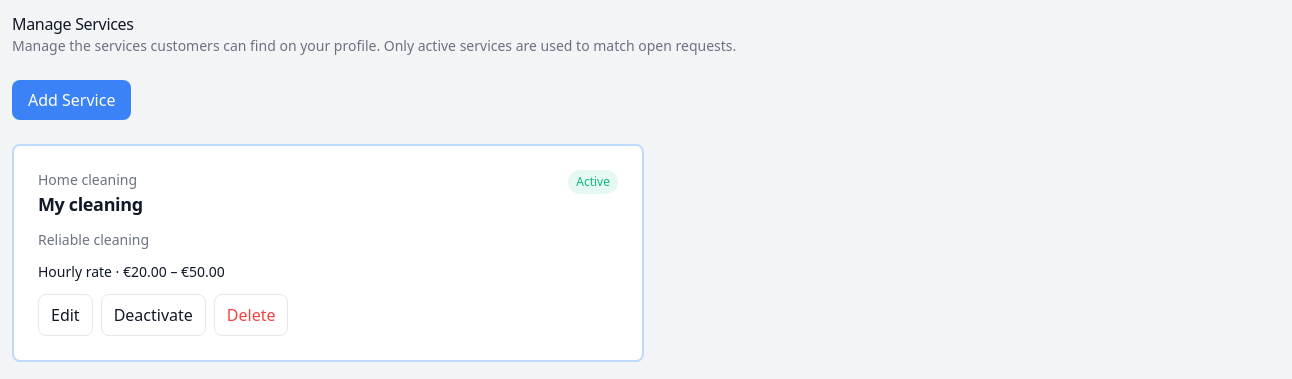
Test: service management screen › confirms deletion before removing a service
Expected: the heading "My cleaning" is shown, top-left (38, 190), bottom-right (143, 218)
Click the button "Delete": (251, 315) top-left (214, 294), bottom-right (288, 336)
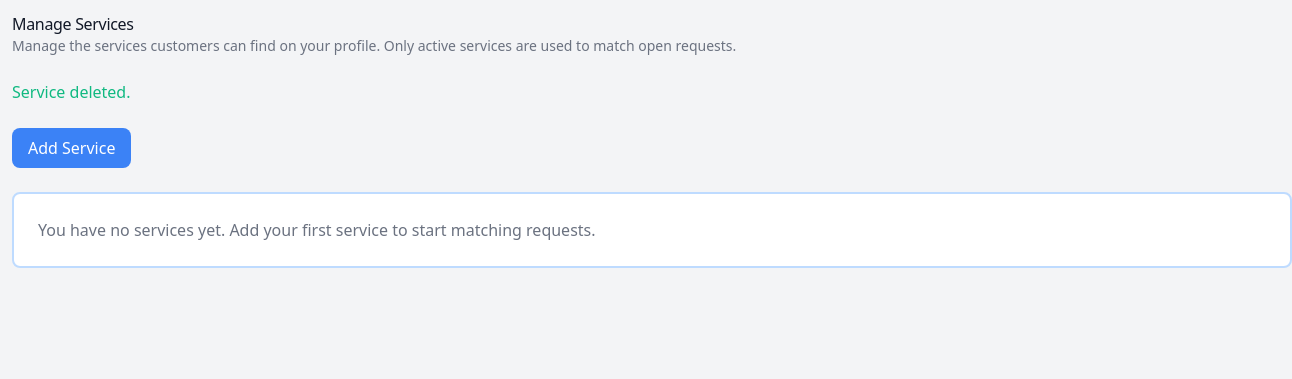
Expected: the heading "My cleaning" is gone
